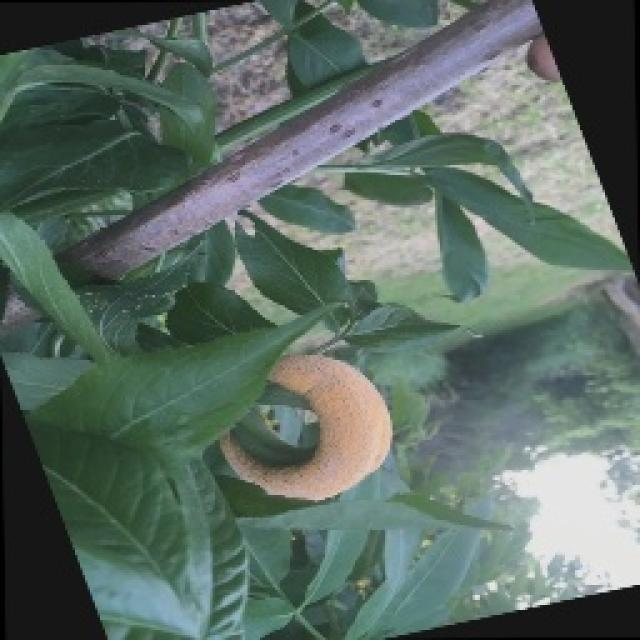Elderberry_rust: (210, 357, 398, 509)
